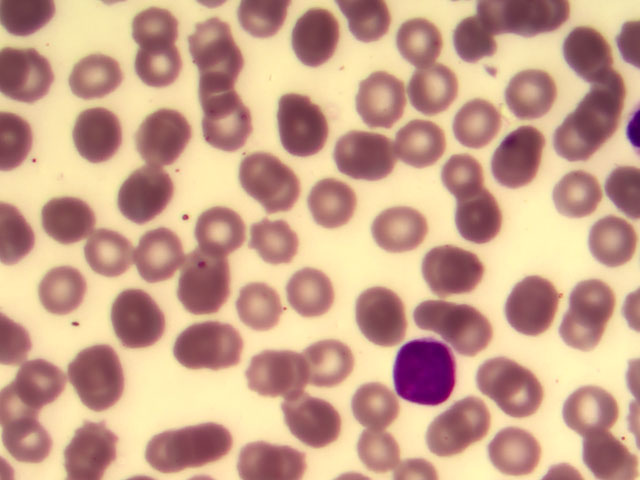RBC: (67, 51, 123, 105), (1, 44, 57, 98), (72, 105, 128, 159), (134, 112, 190, 166), (119, 169, 175, 223), (42, 191, 98, 245), (84, 228, 140, 282), (36, 262, 92, 316), (106, 291, 162, 345), (132, 227, 188, 281), (172, 249, 228, 303), (190, 208, 246, 262), (234, 213, 290, 267), (256, 169, 312, 223), (234, 143, 290, 197), (204, 107, 260, 161), (195, 69, 251, 123), (193, 36, 249, 90), (187, 18, 243, 72), (133, 41, 189, 95), (129, 1, 185, 55), (287, 13, 343, 67), (274, 93, 330, 147), (349, 71, 405, 125), (403, 61, 459, 115), (395, 16, 451, 70), (448, 93, 504, 147), (393, 117, 449, 171), (336, 127, 392, 181), (307, 174, 363, 228), (371, 203, 427, 257), (284, 265, 340, 319), (230, 282, 286, 336), (206, 319, 262, 373), (175, 323, 231, 377), (71, 343, 127, 397), (16, 356, 72, 410), (3, 414, 59, 468), (59, 421, 115, 475), (144, 426, 200, 480), (179, 412, 235, 466), (238, 348, 294, 402), (302, 338, 358, 392), (284, 394, 340, 448), (229, 426, 285, 480), (343, 378, 399, 432), (345, 426, 401, 480), (412, 415, 468, 469), (449, 389, 505, 443), (492, 367, 548, 421), (467, 355, 523, 409), (451, 310, 507, 364), (413, 292, 469, 346), (350, 280, 406, 334), (419, 240, 475, 294), (455, 196, 511, 250), (440, 149, 496, 203), (482, 135, 538, 189), (498, 120, 554, 174), (509, 68, 565, 122), (553, 119, 609, 173), (566, 92, 622, 146), (560, 30, 616, 84), (453, 16, 509, 70), (584, 213, 640, 267), (549, 164, 605, 218), (569, 271, 625, 325), (554, 298, 610, 352), (510, 279, 566, 333), (562, 378, 618, 432), (568, 426, 624, 480), (488, 426, 544, 480)
WBC: (393, 339, 457, 409)
